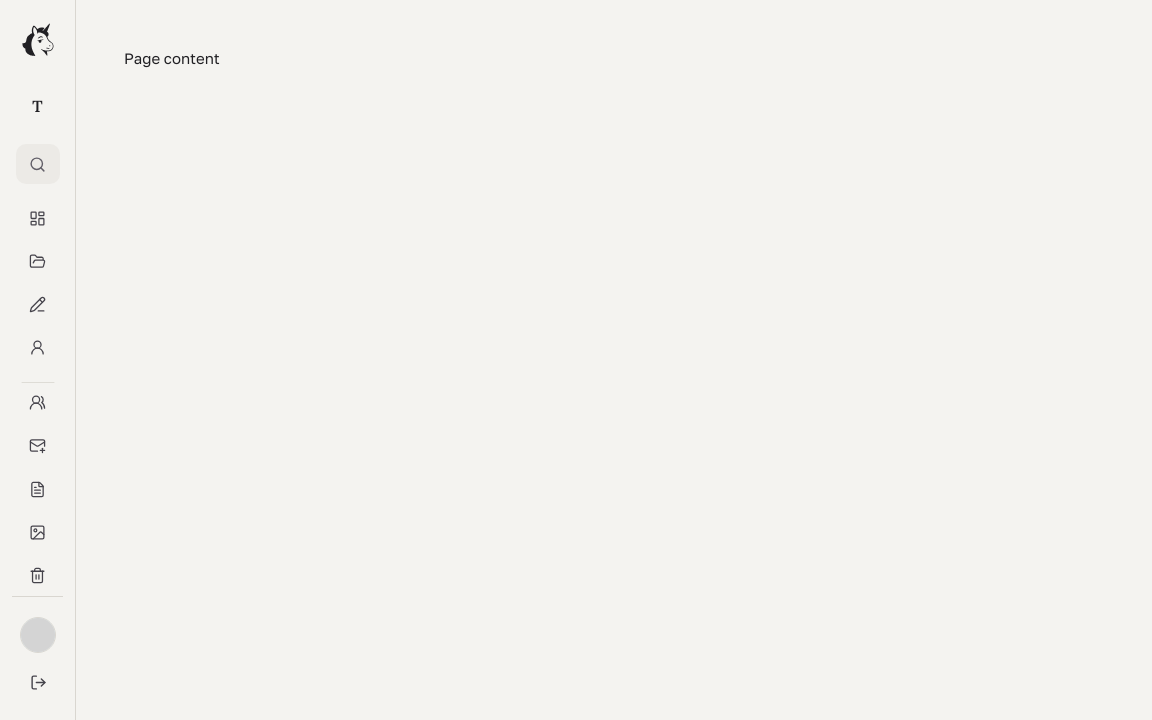
Test: CampaignWorkspaceShell › searches only visible materials with keyboard navigation
A Russian layout reports "л" for the K key.
Press л
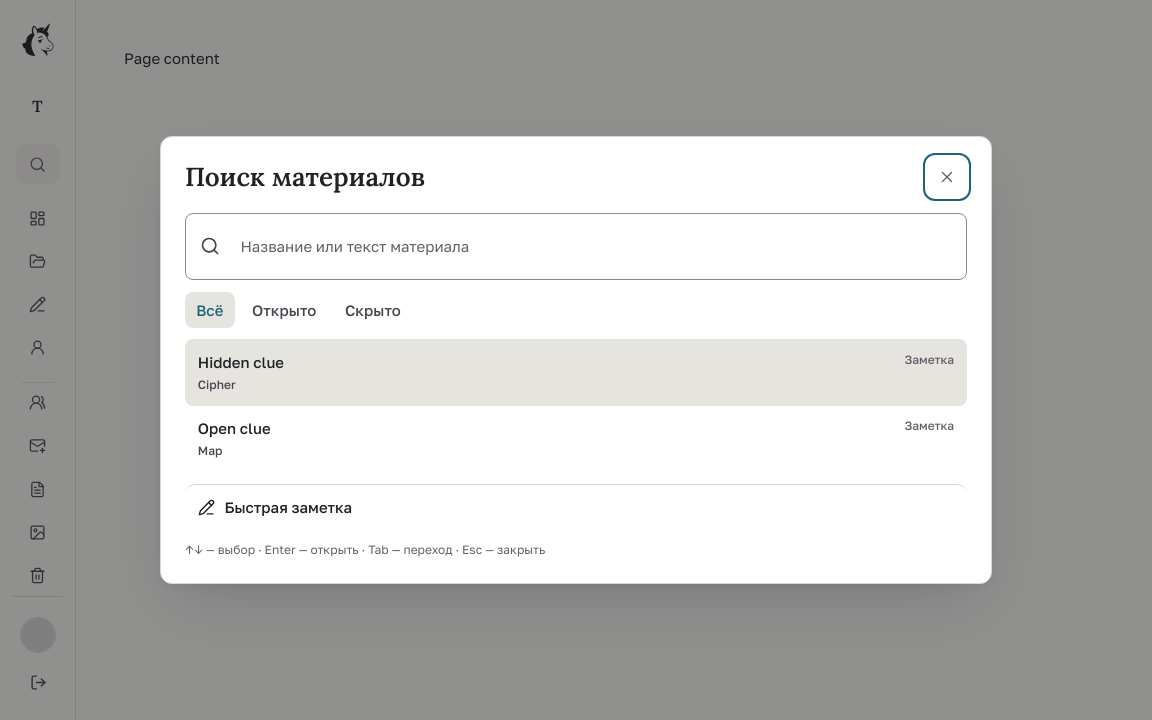
Now the button "Hidden clue Cipher Заметка" is shown, box [185,340,967,406]
In the search field labelled "Название или текст материала": (591, 246) [230,225,952,268], type "clue"
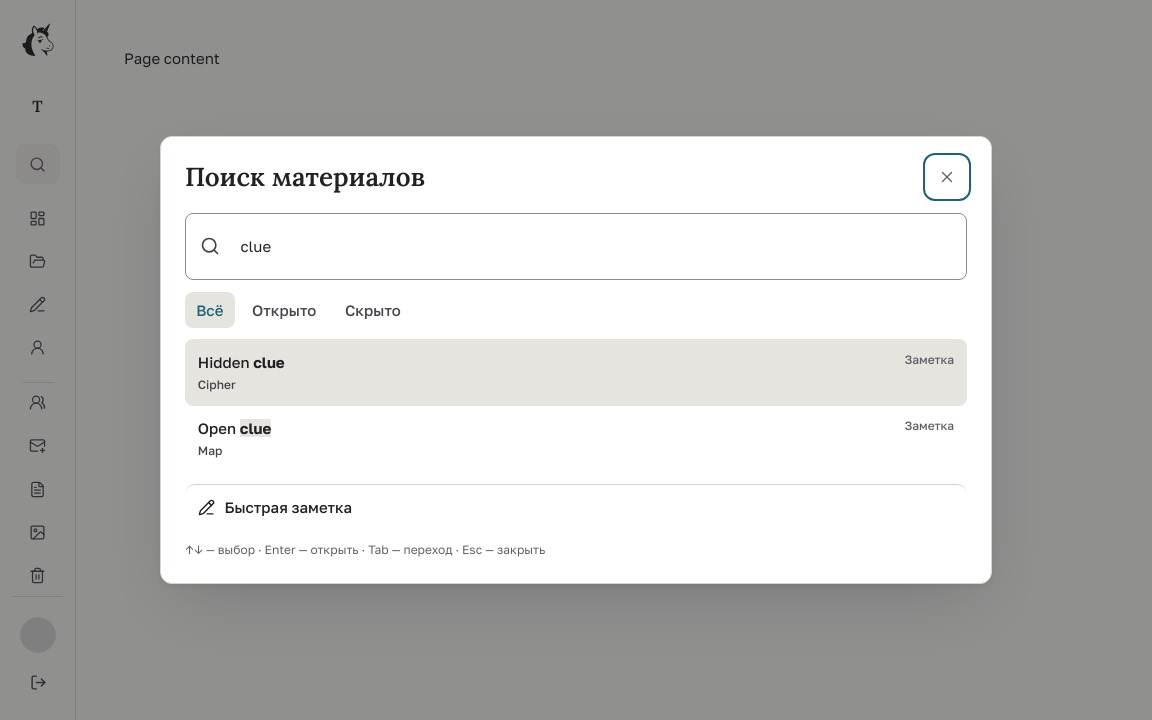
Click the button "Скрыто": (373, 310) [334,292,412,328]
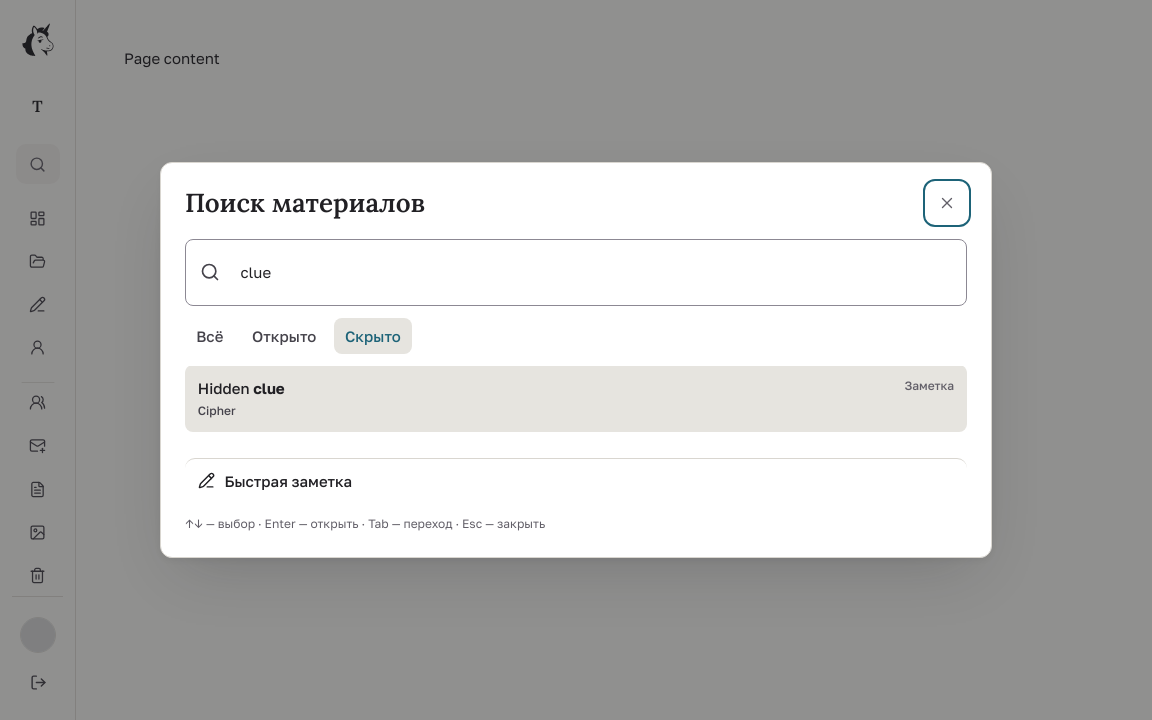
Now the button "Hidden clue Cipher Заметка" is shown, box [185,366,967,432]
Now the button "Open clue" is gone
Click the button "Всё": (210, 336) [185,318,234,354]
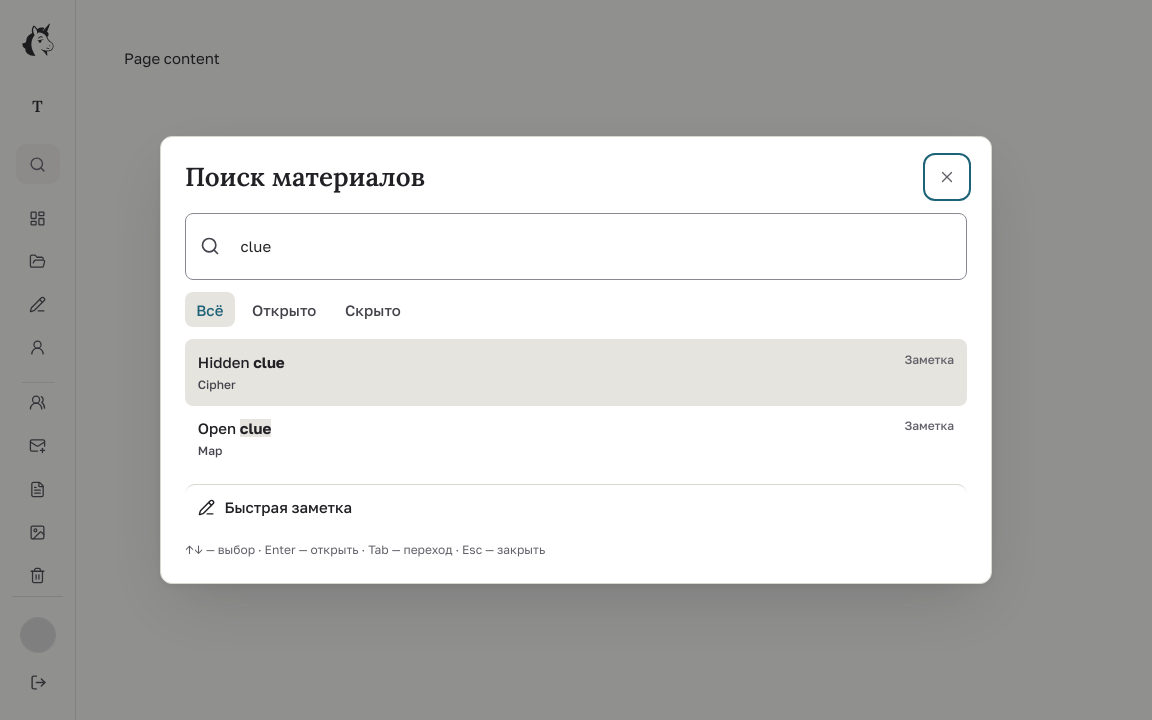
Press ArrowDown in the search field named "Название или текст материала", box [230,225,952,268]
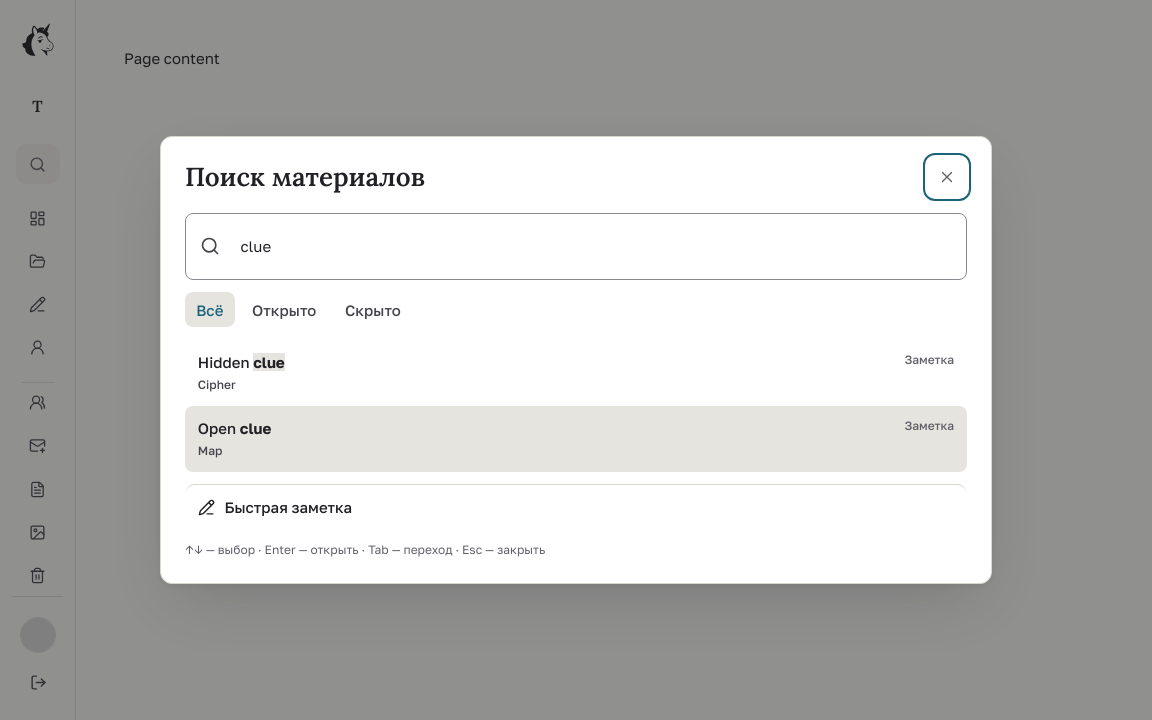
Press Enter in the search field named "Название или текст материала", box [230,225,952,268]
(page scrolled)
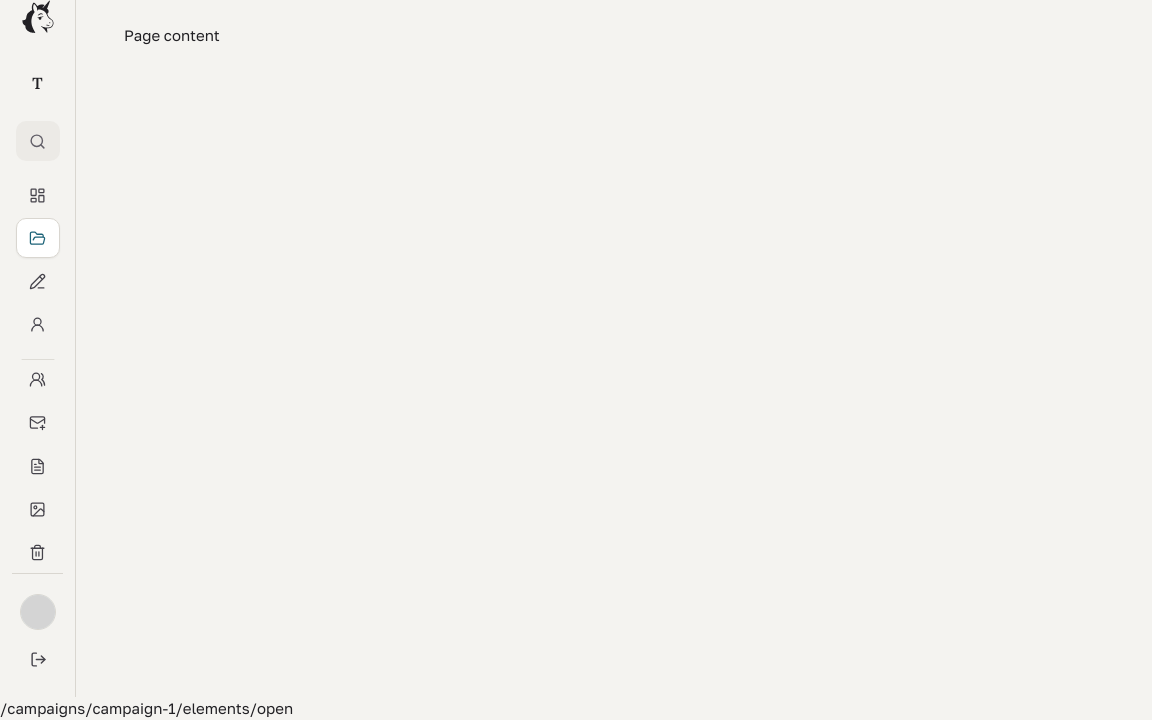
Now the text with test id "location" reads "/campaigns/campaign-1/elements/open", box [0,699,293,717]
